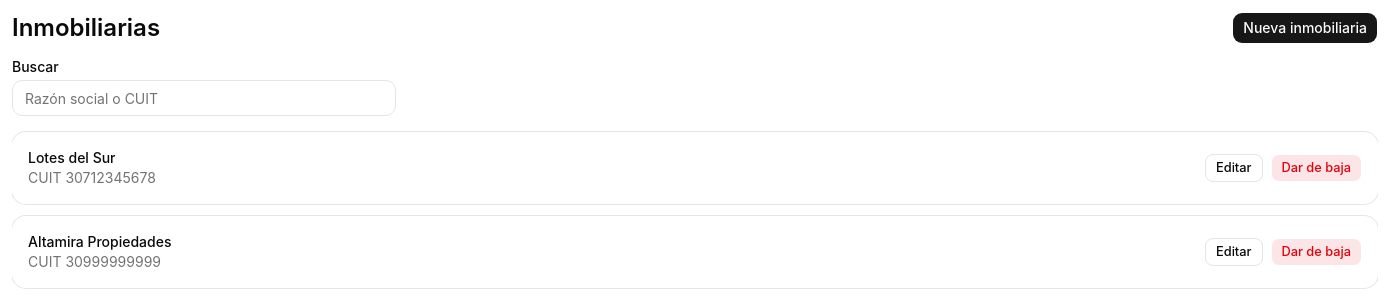
AgenciesPage › filters the list by CUIT however it is typed
Expected: the text "Lotes del Sur" is shown, [28, 149, 116, 166]
In the search field labelled "Buscar": (204, 98) [12, 80, 396, 116], type "30-71234567-8"
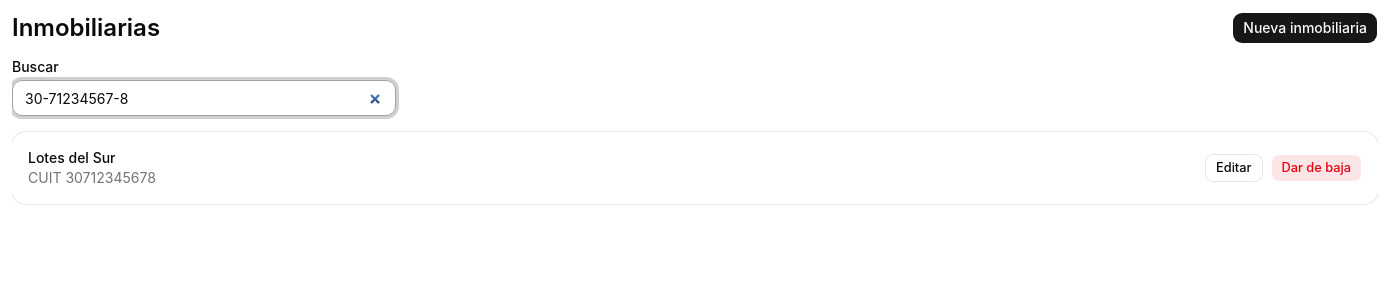
Expected: the text "Lotes del Sur" is shown, [28, 149, 116, 166]
Result: the text "Altamira Propiedades" is gone
